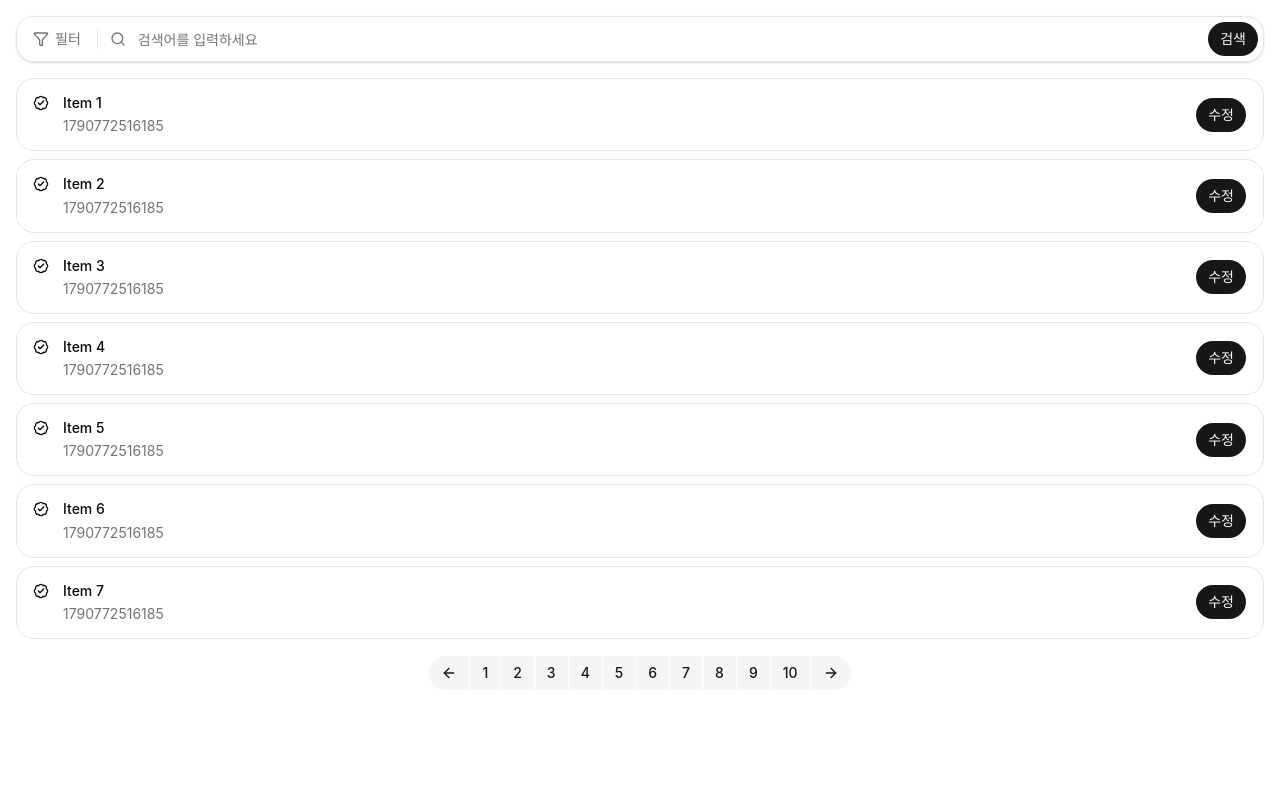
Test: applies the inline category filter only when search is submitted
Expected: the dropdown labelled "카테고리 선택" is not shown
Click the button "필터" at point(57, 39), box [21, 21, 93, 57]
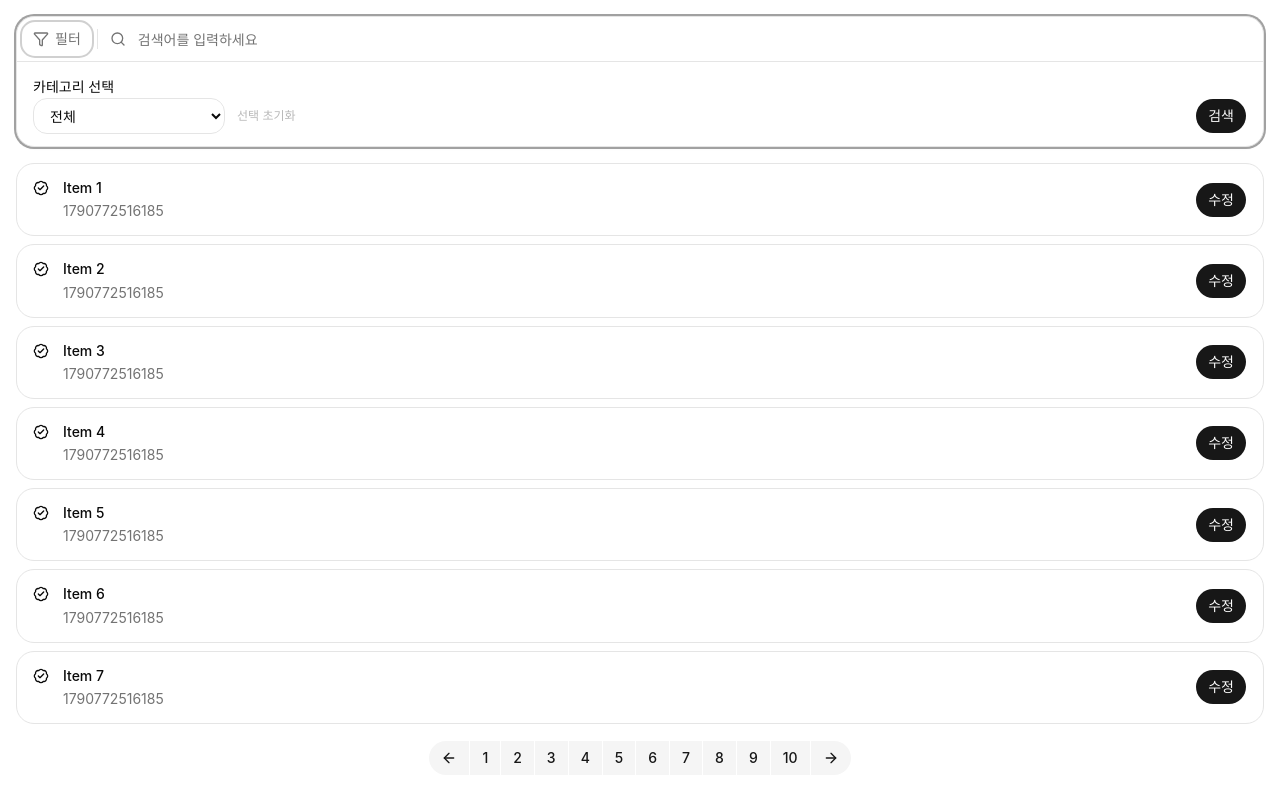
Select "카카오" in the dropdown labelled "카테고리 선택" at point(129, 116), box [33, 98, 225, 134]
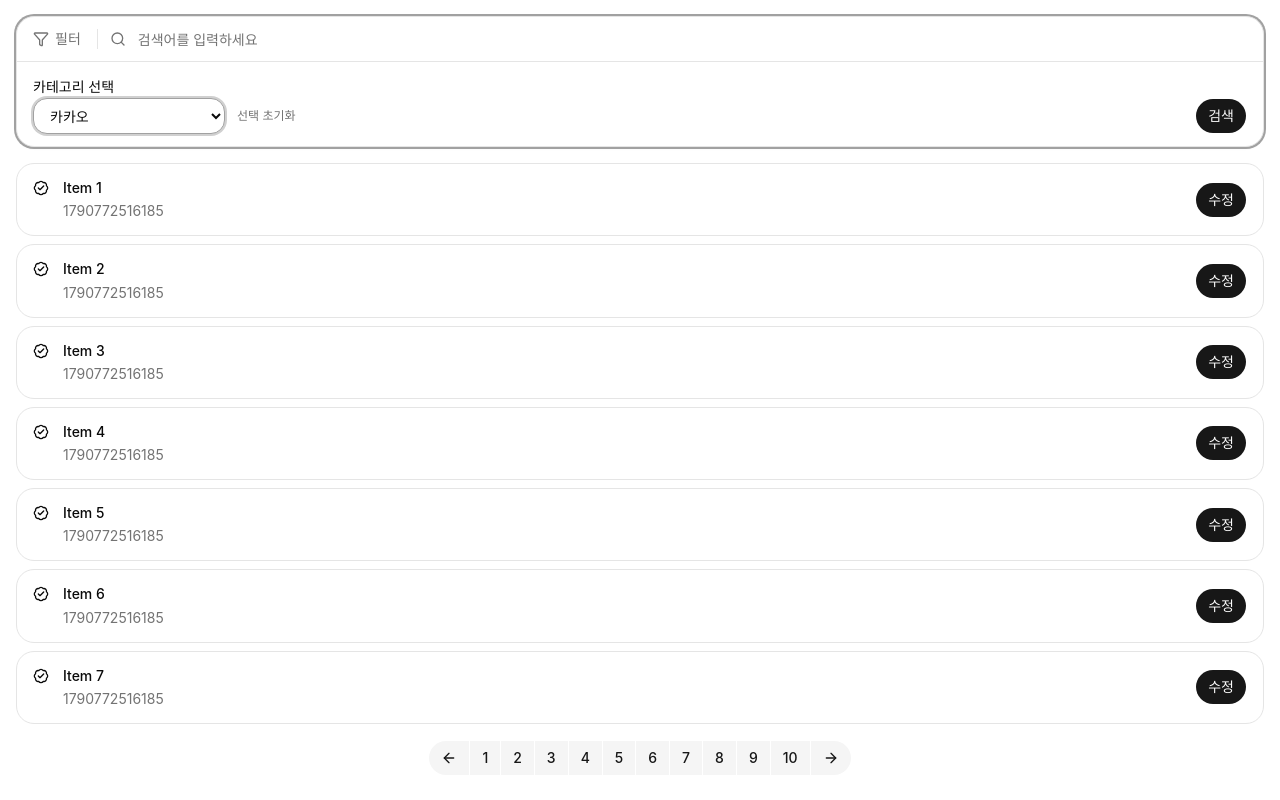
Click the button "검색" at point(1221, 116), box [1195, 98, 1247, 134]
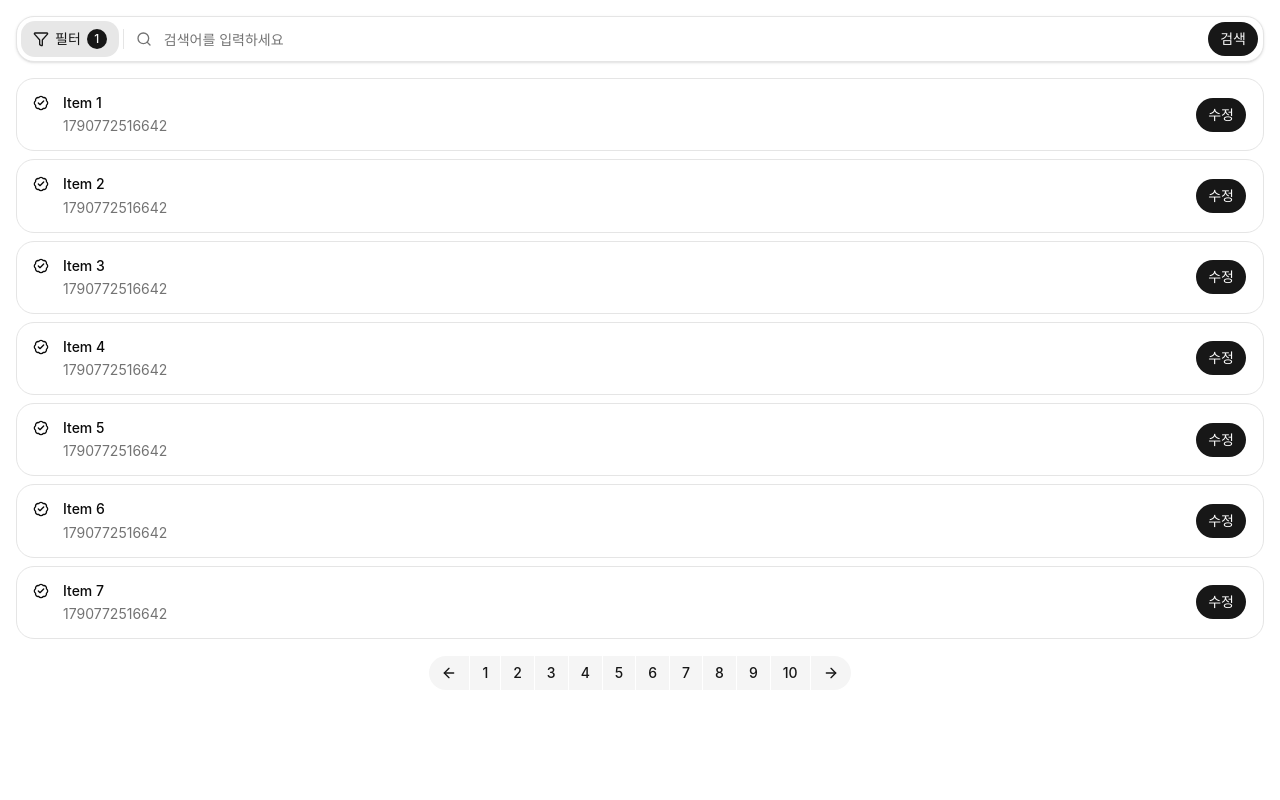
Result: the label "카테고리 선택" is gone
